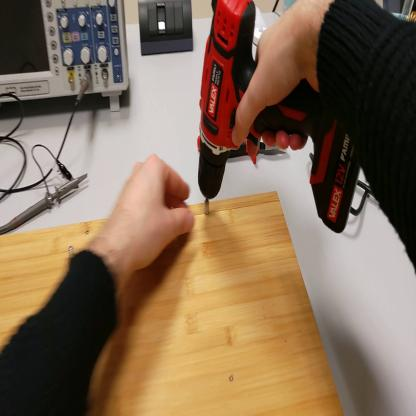electric screwdriver: (196, 2, 362, 235)
hand: (232, 8, 322, 162), (107, 156, 193, 269)
oscilloscope: (2, 2, 128, 124)
oscilloscope probe tip: (3, 174, 92, 234)
welder base: (384, 3, 415, 26)
working area: (2, 194, 343, 414)
